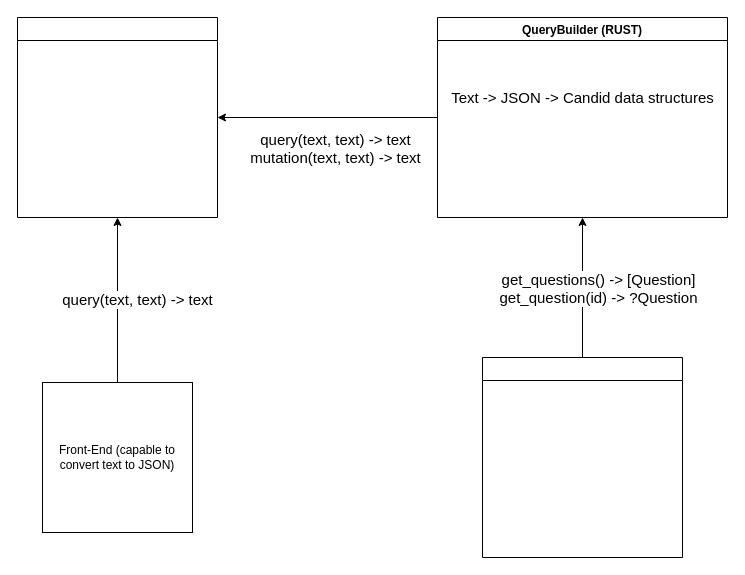
Image size: 745x575. Some labels were removed from this diagram. The centre of each missing label's shape, as x and y in pixels:
GraphQL: the point at 117,117
Information Market (motoko): the point at 582,457
